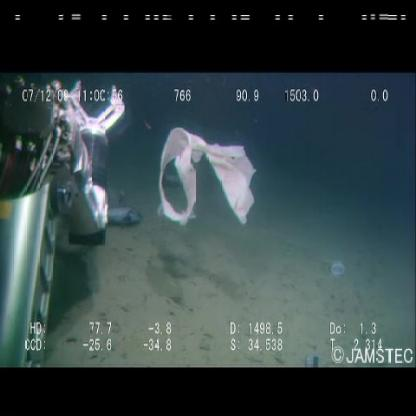Rov: (1, 76, 135, 364)
Rác: (155, 123, 262, 238)
